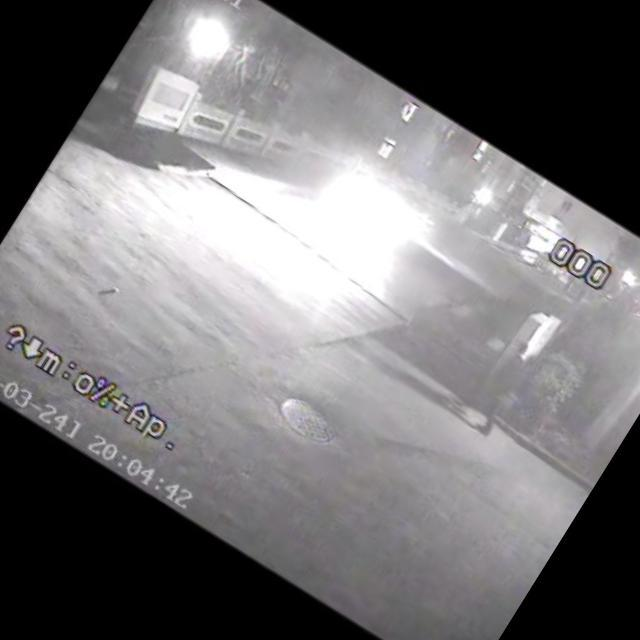person: (436, 318, 544, 439)
